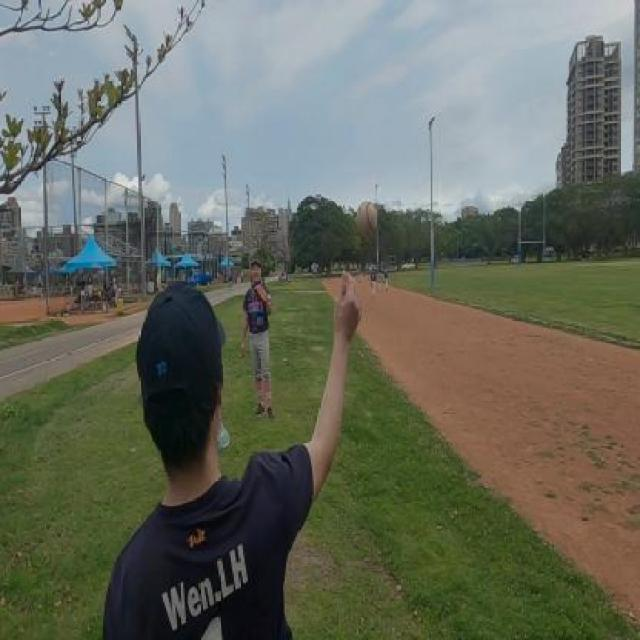baseball: (356, 202, 378, 240)
